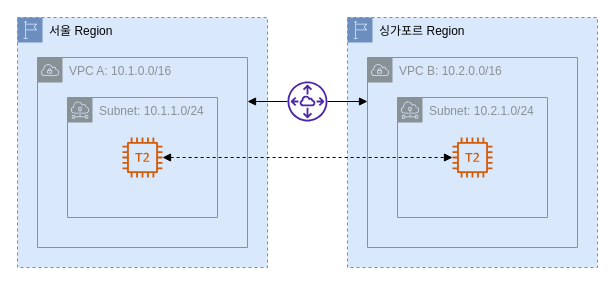
This 615x285 diagram has some shape labels left out. The centre of each missing label's shape, as x and y in pixels:
"EC2 10.1.1.10" goes at point (142, 157).
"EC2 10.2.1.10" goes at point (472, 157).
"VPC Peering" goes at point (307, 101).
